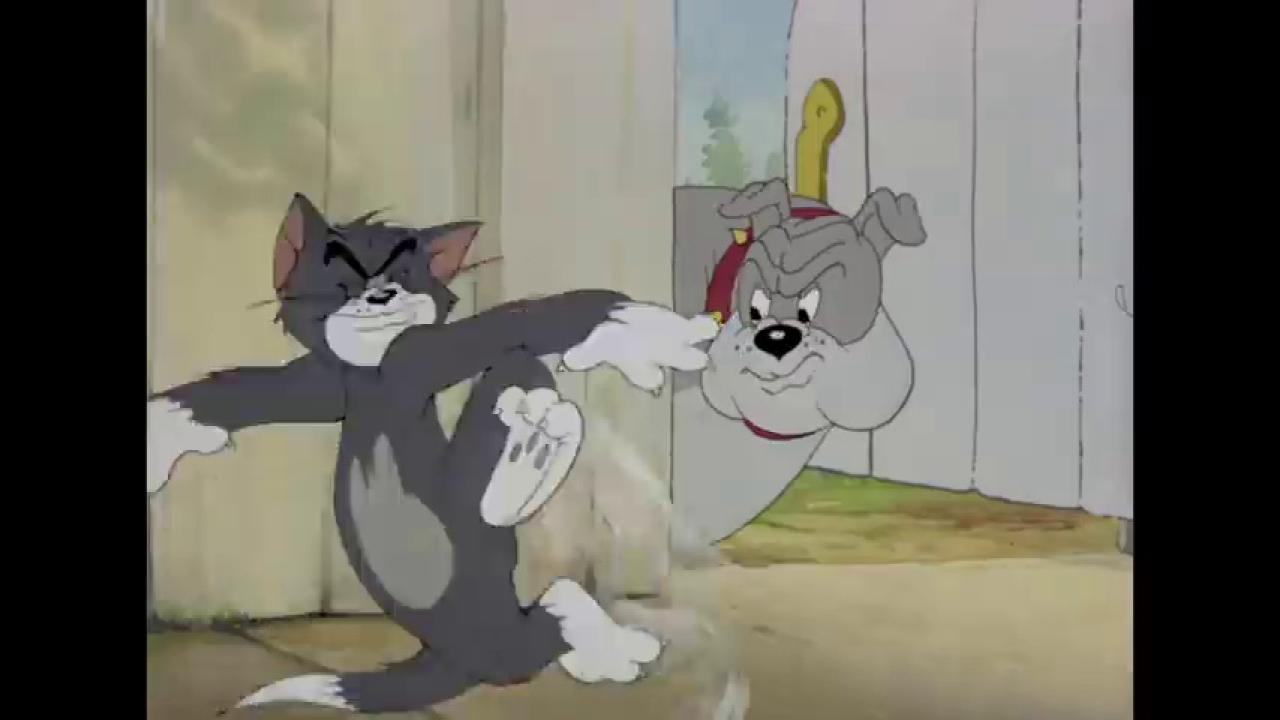Tom: (148, 192, 722, 720)
